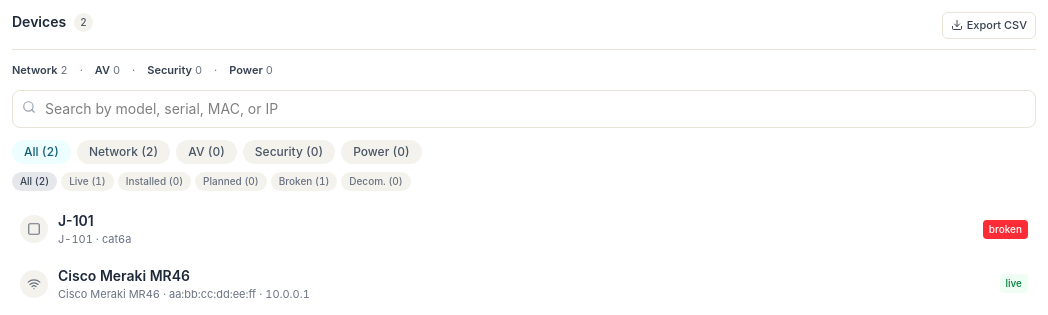
Test: DevicesPanel — pill filters › status filter narrows the list
Click the button "Broken (1)" at coordinates (304, 182), box [271, 172, 337, 191]
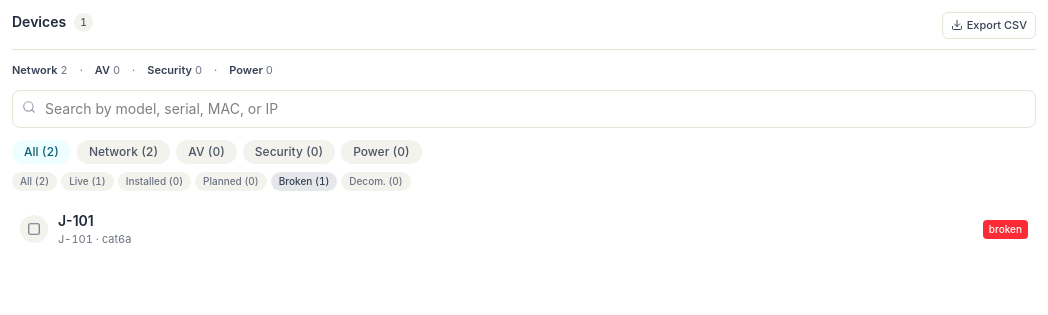
Check: the button with test id "device-row-jk1" is shown, box [12, 203, 1036, 256]
Check: the button with test id "device-row-ap1" is gone
